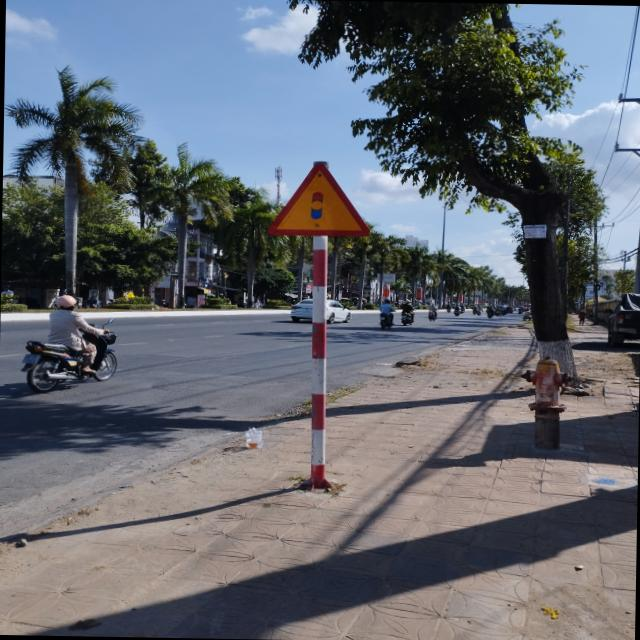Duong_Co_Go_Giam_Toc: (266, 160, 372, 237)
